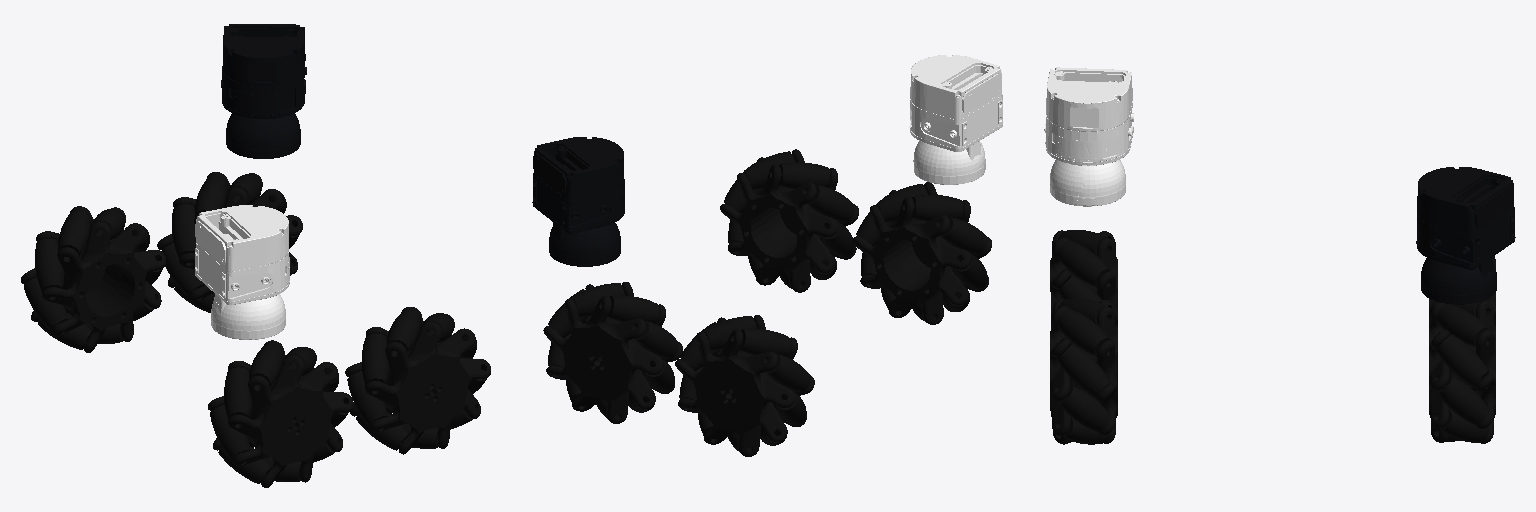
The robot description file, URDF, robot "flitzmo":
<?xml version="1.0" encoding="utf-8"?>
<!-- This URDF was automatically created by SolidWorks to URDF Exporter! Originally created by [author] ([email redacted]) 
     Commit Version: 1.5.1-0-g916b5db  Build Version: 1.5.7152.31018
     For more information, please see http://wiki.ros.org/sw_urdf_exporter -->
<robot
  name="flitzmo">
  <link
    name="base_link">
    <inertial>
      <origin
        xyz="0 0 0"
        rpy="0 0 0" />
      <mass
        value="1" />
      <inertia
        ixx="0.001"
        ixy="0.00"
        ixz="0.00"
        iyy="0.001"
        iyz="0.00"
        izz="0.001" />
    </inertial>
    <visual>
      <origin
        xyz="0 0 0"
        rpy="0 0 0" />
      <geometry>
        <mesh
          filename="package://flitzmo/meshes/base_link.STL" />
      </geometry>
      <material
        name="">
        <color
          rgba="0.850980392156863 0.83921568627451 0.858823529411765 1" />
      </material>
    </visual>
    <collision>
      <origin
        xyz="0 0 0"
        rpy="0 0 0" />
      <geometry>
        <mesh
          filename="package://flitzmo/meshes/base_link.STL" />
      </geometry>
    </collision>
  </link>
  <link
    name="back_left_wheel">
    <inertial>
      <origin
        xyz="0 0 0"
        rpy="0 0 0" />
      <mass
        value="1" />
      <inertia
        ixx="0.001"
        ixy="0.00"
        ixz="0.00"
        iyy="0.001"
        iyz="0.00"
        izz="0.001" />
    </inertial>
    <visual>
      <origin
        xyz="0 0 0"
        rpy="0 0 0" />
      <geometry>
        <mesh
          filename="package://flitzmo/meshes/back_left_wheel.STL" />
      </geometry>
      <material
        name="">
        <color
          rgba="0.098039 0.098039 0.098039 1" />
      </material>
    </visual>
    <collision>
      <origin
        xyz="0 0 0"
        rpy="0 0 0" />
      <geometry>
        <mesh
          filename="package://flitzmo/meshes/front_right_wheel.STL" />
      </geometry>
    </collision>
  </link>
  <joint
    name="base_to_back_left_wheel"
    type="fixed">
    <origin
      xyz="-0.105 0.225 -0.045"
      rpy="0 0 0" />
    <parent
      link="base_link" />
    <child
      link="back_left_wheel" />
    <axis
      xyz="0 1 0" />
  </joint>
  <link
    name="front_left_wheel">
    <inertial>
      <origin
        xyz="0 0 0"
        rpy="0 0 0" />
      <mass
        value="1" />
      <inertia
        ixx="0.001"
        ixy="0.00"
        ixz="0.00"
        iyy="0.001"
        iyz="0.00"
        izz="0.001" />
    </inertial>
    <visual>
      <origin
        xyz="0 0 0"
        rpy="0 0 0" />
      <geometry>
        <mesh
          filename="package://flitzmo/meshes/front_left_wheel.STL" />
      </geometry>
      <material
        name="">
        <color
          rgba="0.098039 0.098039 0.098039 1" />
      </material>
    </visual>
    <collision>
      <origin
        xyz="0 0 0"
        rpy="0 0 0" />
      <geometry>
        <mesh
          filename="package://flitzmo/meshes/front_right_wheel.STL" />
      </geometry>
    </collision>
  </link>
  <joint
    name="base_to_front_left_wheel"
    type="fixed">
    <origin
      xyz="0.105 0.225 -0.045"
      rpy="0 0 0" />
    <parent
      link="base_link" />
    <child
      link="front_left_wheel" />
    <axis
      xyz="0 1 0" />
  </joint>
  <link
    name="front_right_wheel">
    <inertial>
      <origin
        xyz="0 0 0"
        rpy="0 0 0" />
      <mass
        value="1" />
      <inertia
        ixx="0.001"
        ixy="0.00"
        ixz="0.00"
        iyy="0.001"
        iyz="0.00"
        izz="0.001" />
    </inertial>
    <visual>
      <origin
        xyz="0 0 0"
        rpy="0 0 0" />
      <geometry>
        <mesh
          filename="package://flitzmo/meshes/front_right_wheel.STL" />
      </geometry>
      <material
        name="">
        <color
          rgba="0.098039 0.098039 0.098039 1" />
      </material>
    </visual>
    <collision>
      <origin
        xyz="0 0 0"
        rpy="0 0 0" />
      <geometry>
        <mesh
          filename="package://flitzmo/meshes/front_right_wheel.STL" />
      </geometry>
    </collision>
  </link>
  <joint
    name="base_to_front_right_wheel"
    type="fixed">
    <origin
      xyz="0.105 -0.265 -0.045"
      rpy="0 0 0" />
    <parent
      link="base_link" />
    <child
      link="front_right_wheel" />
    <axis
      xyz="0 1 0" />
  </joint>
  <link
    name="back_right_wheel">
    <inertial>
      <origin
        xyz="0 0 0"
        rpy="0 0 0" />
      <mass
        value="1" />
      <inertia
        ixx="0.001"
        ixy="0.00"
        ixz="0.00"
        iyy="0.001"
        iyz="0.00"
        izz="0.001" />
    </inertial>
    <visual>
      <origin
        xyz="0 0 0"
        rpy="0 0 0" />
      <geometry>
        <mesh
          filename="package://flitzmo/meshes/back_right_wheel.STL" />
      </geometry>
      <material
        name="">
        <color
          rgba="0.098039 0.098039 0.098039 1" />
      </material>
    </visual>
    <collision>
      <origin
        xyz="0 0 0"
        rpy="0 0 0" />
      <geometry>
        <mesh
          filename="package://flitzmo/meshes/front_right_wheel.STL" />
      </geometry>
    </collision>
  </link>
  <joint
    name="base_to_back_right_wheel"
    type="fixed">
    <origin
      xyz="-0.105 -0.265 -0.045"
      rpy="0 0 0" />
    <parent
      link="base_link" />
    <child
      link="back_right_wheel" />
    <axis
      xyz="0 1 0" />
  </joint>


<!--gazebo>
  <controller:mecanum_drive_plugin name="mecanum_drive_controller" plugin="libmecanum_plugin.so">
    <alwaysOn>true</alwaysOn>
    <update>100</update>
    <updateRate>100.0</updateRate>
    <frontLeftJoint>base_to_front_left_wheel</frontLeftJoint>
    <frontRightJoint>base_to_front_right_wheel</frontRightJoint>
    <backLeftJoint>base_to_back_left_wheel</backLeftJoint>
    <backRightJoint>base_to_back_right_wheel</backRightJoint>
    <robotWidth>0.27</robotWidth>   
    <robotLength>0.25</robotLength> 
    <wheelDiameter>0.26</wheelDiameter>
    <torque>5</torque>
    <interface:position name="position_iface_0"/>
    <topicName>cmd_vel</topicName>
  </controller:mecanum_drive_plugin>
</gazebo-->

  <gazebo>
    <plugin name="mpo_500_controller" filename="libgazebo_ros_planar_move.so">
      <commandTopic>cmd_vel</commandTopic>
      <odometryTopic>odom</odometryTopic>
      <odometryFrame>odom</odometryFrame>
      <odometryRate>20.0</odometryRate>
      <robotBaseFrame>base_link</robotBaseFrame>
    </plugin>
  </gazebo>


  <link
    name="Front_lidar">
    <inertial>
      <origin
        xyz="0 0 0"
        rpy="0 0 0" />
      <mass
        value="1" />
      <inertia
        ixx="0.001"
        ixy="0.00"
        ixz="0.00"
        iyy="0.001"
        iyz="0.00"
        izz="0.001" />
    </inertial>
    <visual>
      <origin
        xyz="0 0 0"
        rpy="0 0 0" />
      <geometry>
        <mesh
          filename="package://flitzmo/meshes/Front_lidar.STL" />
      </geometry>
      <material
        name="">
        <color
          rgba="0.082353 0.086275 0.098039 1" />
      </material>
    </visual>
    <collision>
      <origin
        xyz="0 0 0"
        rpy="0 0 0" />
      <geometry>
        <mesh
          filename="package://flitzmo/meshes/Front_lidar.STL" />
      </geometry>
    </collision>
  </link>
  <joint
    name="base_to_Front_lidar"
    type="fixed">
    <origin
      xyz="0.15 0.22 0.19"
      rpy="0 0 45" />
    <parent
      link="base_link" />
    <child
      link="Front_lidar" />
    <axis
      xyz="0 0 0" />
  </joint>
  <link
    name="back_lidar">
    <inertial>
      <origin
        xyz="0 0 0"
        rpy="0 0 0" />
      <mass
        value="1" />
      <inertia
        ixx="0.001"
        ixy="0.00"
        ixz="0.00"
        iyy="0.001"
        iyz="0.00"
        izz="0.001" />
    </inertial>
    <visual>
      <origin
        xyz="0 0 0"
        rpy="0 0 0" />
      <geometry>
        <mesh
          filename="package://flitzmo/meshes/back_lidar.STL" />
      </geometry>
      <material
        name="">
        <color
          rgba="1 1 1 1" />
      </material>
    </visual>
    <collision>
      <origin
        xyz="0 0 0"
        rpy="0 0 0" />
      <geometry>
        <mesh
          filename="package://flitzmo/meshes/back_lidar.STL" />
      </geometry>
    </collision>
  </link>
  <joint
    name="base_to_back_lidar"
    type="fixed">
    <origin
      xyz="-0.15 -0.26 0.19"
      rpy="0 0 135" />
    <parent
      link="base_link" />
    <child
      link="back_lidar" />
    <axis
      xyz="0 0 0" />
  </joint>

    <gazebo reference="Front_lidar">
      <turnGravityOff>true</turnGravityOff>
      <sensor type="ray" name="Front_lidar">
        <pose>0 0 0 0 0 0</pose>
        <visualize>false</visualize>
        <update_rate>40</update_rate>
        <ray>
          <scan>
            <horizontal>
              <samples>720</samples>
              <resolution>1</resolution>
                <min_angle>-2.25</min_angle>
                <max_angle>2.25</max_angle>
            </horizontal>
          </scan>
          <range>
              <min>0.10</min>
              <max>30.0</max>
            <resolution>0.01</resolution>
          </range>
          <noise>
            <type>gaussian</type>
            <mean>0.0</mean>
            <stddev>0.001</stddev>
          </noise>
        </ray>
        <plugin name="gazebo_ros_laser" filename="libgazebo_ros_laser.so">
          <topicName>Front_lidar_scan</topicName>
          <frameName>Front_lidar</frameName>
        </plugin>
      </sensor>
    </gazebo>


    <gazebo reference="back_lidar">
      <turnGravityOff>true</turnGravityOff>
      <sensor type="ray" name="back_lidar">
        <pose>0 0 0 0 0 0</pose>
        <visualize>false</visualize>
        <update_rate>40</update_rate>
        <ray>
          <scan>
            <horizontal>
              <samples>720</samples>
              <resolution>1</resolution>
                <min_angle>-2.25</min_angle>
                <max_angle>2.25</max_angle>
            </horizontal>
          </scan>
          <range>
              <min>0.10</min>
              <max>30.0</max>
            <resolution>0.01</resolution>
          </range>
          <noise>
            <type>gaussian</type>
            <mean>0.0</mean>
            <stddev>0.001</stddev>
          </noise>
        </ray>
        <plugin name="gazebo_ros_laser" filename="libgazebo_ros_laser.so">
          <topicName>back_lidar_scan</topicName>
          <frameName>back_lidar</frameName>
        </plugin>
      </sensor>
    </gazebo>


</robot>

--- Render facts (derived) ---
The picture shows the robot from 3 angles, left to right: view 1: azimuth 30°, elevation 25°; view 2: azimuth 150°, elevation 25°; view 3: azimuth 270°, elevation 25°; orthographic projection.
Robot: flitzmo — 7 links, 6 joints (6 fixed); root link base_link; default pose: all joints at 0.
Visible links, largest first — view 1: front_right_wheel, back_left_wheel, back_right_wheel, back_lidar, Front_lidar, front_left_wheel; view 2: back_right_wheel, back_left_wheel, front_left_wheel, front_right_wheel, back_lidar, Front_lidar; view 3: Front_lidar, back_lidar, front_right_wheel, front_left_wheel, back_right_wheel.
Boxes of the visible links, bbox=[...] form: front_right_wheel: bbox=[345, 307, 490, 454]; back_left_wheel: bbox=[21, 206, 165, 352]; back_right_wheel: bbox=[208, 340, 353, 487]; back_lidar: bbox=[195, 205, 289, 339]; Front_lidar: bbox=[221, 24, 306, 158]; front_left_wheel: bbox=[157, 172, 302, 312]; back_right_wheel: bbox=[853, 182, 991, 324]; back_left_wheel: bbox=[675, 315, 814, 456]; front_left_wheel: bbox=[543, 282, 682, 423]; front_right_wheel: bbox=[720, 149, 858, 292]; back_lidar: bbox=[909, 55, 1002, 184]; Front_lidar: bbox=[532, 137, 624, 266]; Front_lidar: bbox=[1416, 167, 1515, 304]; back_lidar: bbox=[1044, 67, 1133, 206]; front_right_wheel: bbox=[1050, 298, 1117, 444]; front_left_wheel: bbox=[1429, 300, 1495, 443]; back_right_wheel: bbox=[1050, 230, 1117, 326].
Size in the robot's own frame: 0.4335 by 0.6094 by 0.3841 metres.
Meshes: 7 distinct files referenced, 6 mesh visuals loaded (6 binary STL); not drawn: 1 (reference not matched to a file when rendering).
